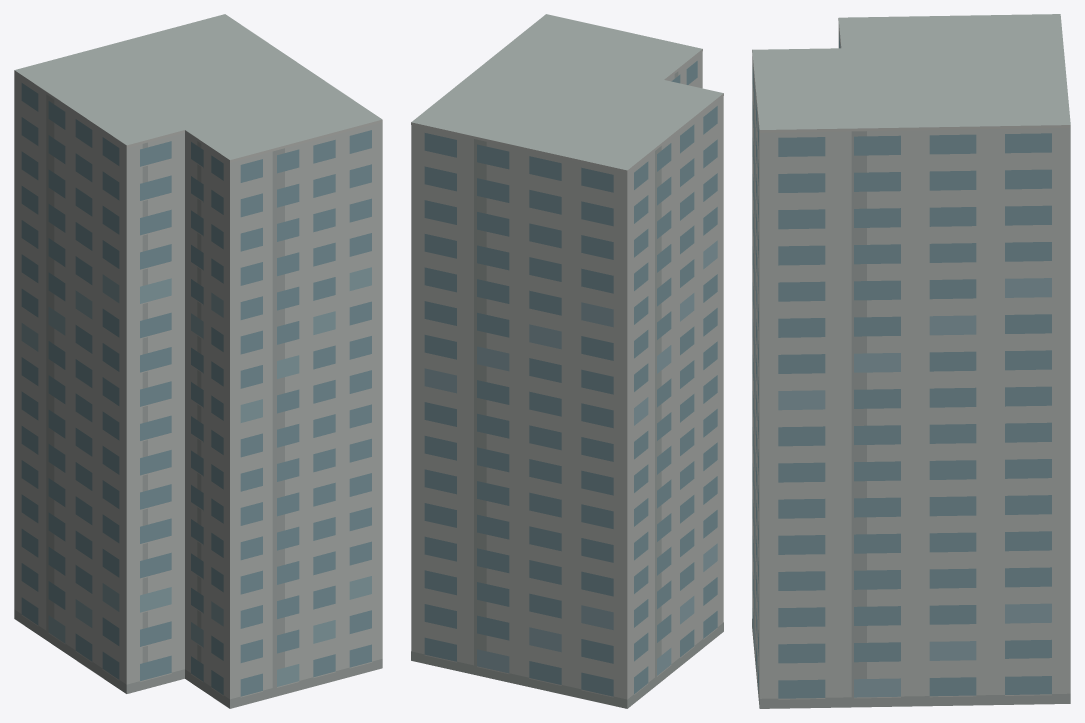
File: residential-5c399f49-d942-4912-b6a3-c87844a95322.glb
The picture shows the model from 3 angles, left to right: view 1: azimuth 30°, elevation 25°; view 2: azimuth 150°, elevation 25°; view 3: azimuth 270°, elevation 25°; orthographic projection. The views are drawn at different scales.
Visible parts, largest first — view 1: residential-5c399f49-d942-4912-b6a3-c87844a95322.tmp; view 2: residential-5c399f49-d942-4912-b6a3-c87844a95322.tmp; view 3: residential-5c399f49-d942-4912-b6a3-c87844a95322.tmp.
Boxes of the visible parts, x1,y1,x2,y2 form: residential-5c399f49-d942-4912-b6a3-c87844a95322.tmp: [14, 14, 382, 708]; residential-5c399f49-d942-4912-b6a3-c87844a95322.tmp: [411, 14, 723, 708]; residential-5c399f49-d942-4912-b6a3-c87844a95322.tmp: [752, 14, 1070, 708].
Size of the model in its own units: 21.51 by 50 by 24.95.
